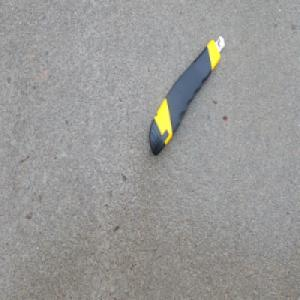Cutter: (147, 33, 225, 156)
